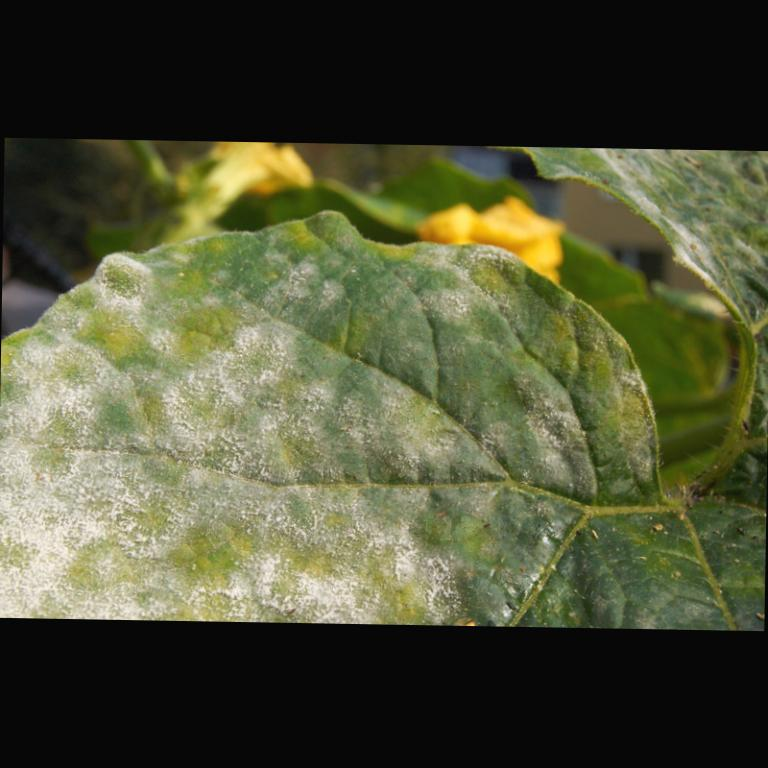powdery-mildew: (71, 311, 473, 609)
